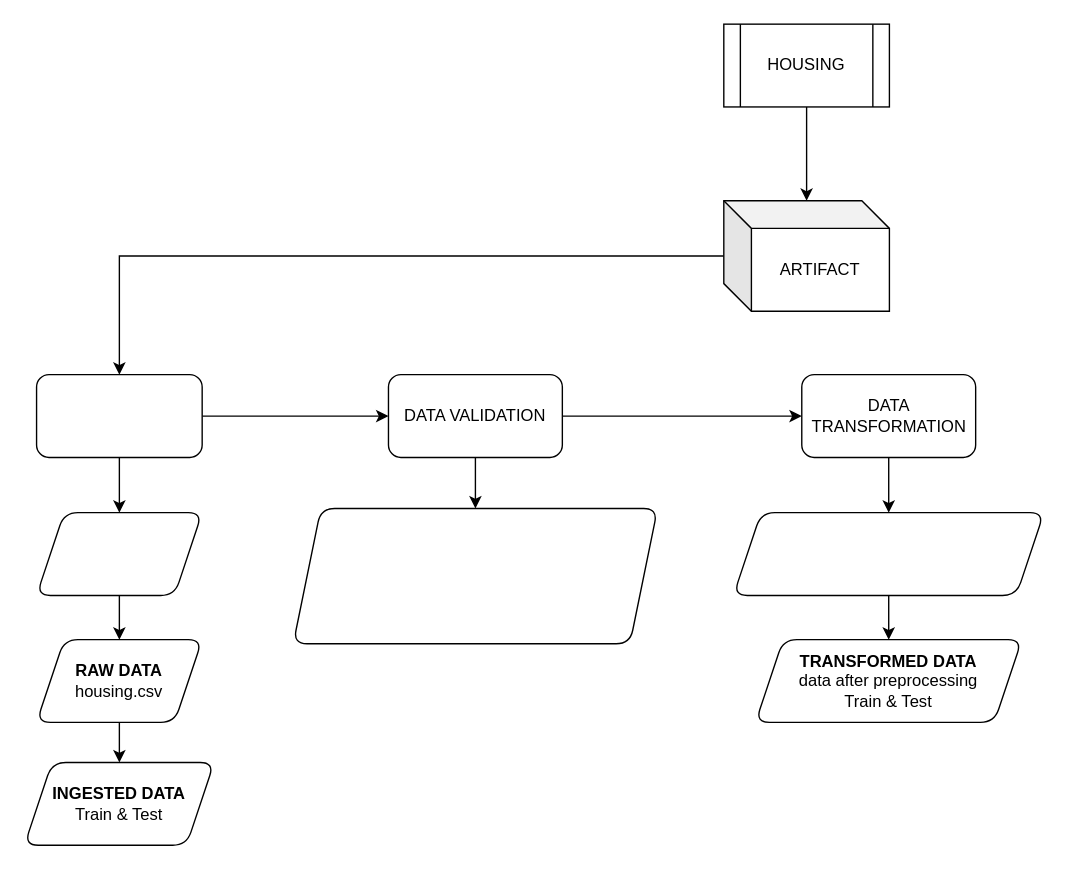
Some shapes in this 1068 by 869 pixel diagram are drawn without their labels. Here are the shapes that lost their labels. From the top down, the centre of each, then its label:
At pixel 118 415: "DATA INGESTION".
At pixel 118 553: "TGZ_DATA housing.tgz".
At pixel 888 553: "PREPROCESSED pickle file to perform necessary preprocessing steps".
At pixel 475 575: "REPORT to check data drift and any changes available in .html & .json".
